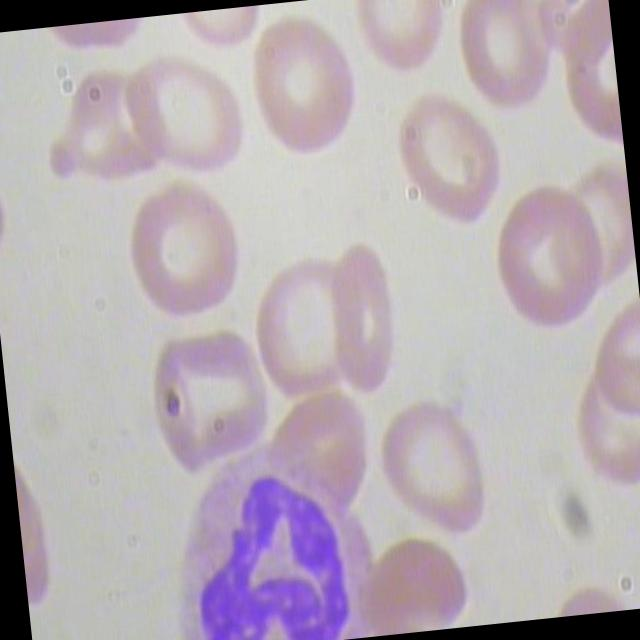RBC: (142, 318, 282, 484), (484, 180, 614, 342), (118, 171, 248, 332), (364, 393, 494, 554), (380, 90, 510, 250), (250, 250, 380, 408), (114, 47, 256, 190), (38, 62, 173, 204), (243, 7, 364, 162), (316, 241, 404, 404), (447, 0, 561, 122), (348, 530, 472, 638)
WBC: (143, 425, 381, 640)
